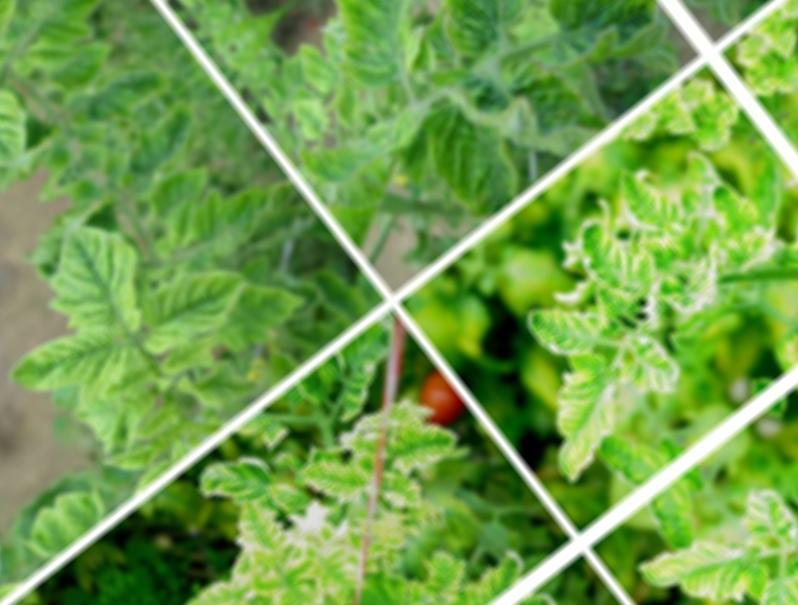Tomato leaf yellow virus: (24, 199, 181, 362), (509, 334, 670, 489), (380, 80, 535, 239), (495, 0, 685, 128), (0, 299, 133, 428), (129, 228, 266, 353), (300, 0, 458, 96), (590, 317, 709, 440), (398, 0, 570, 81), (560, 198, 670, 315), (514, 274, 626, 388), (598, 149, 687, 245), (381, 406, 468, 491), (695, 171, 767, 251), (295, 443, 370, 519), (221, 497, 292, 570), (408, 535, 479, 605), (253, 553, 342, 605), (584, 269, 649, 333), (345, 555, 426, 605), (260, 466, 317, 527), (652, 208, 706, 265)
